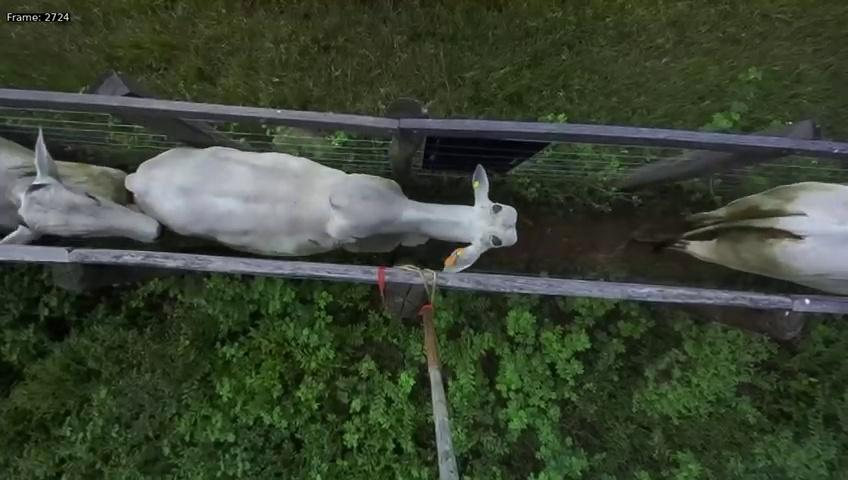cattle: (120, 122, 519, 272)
